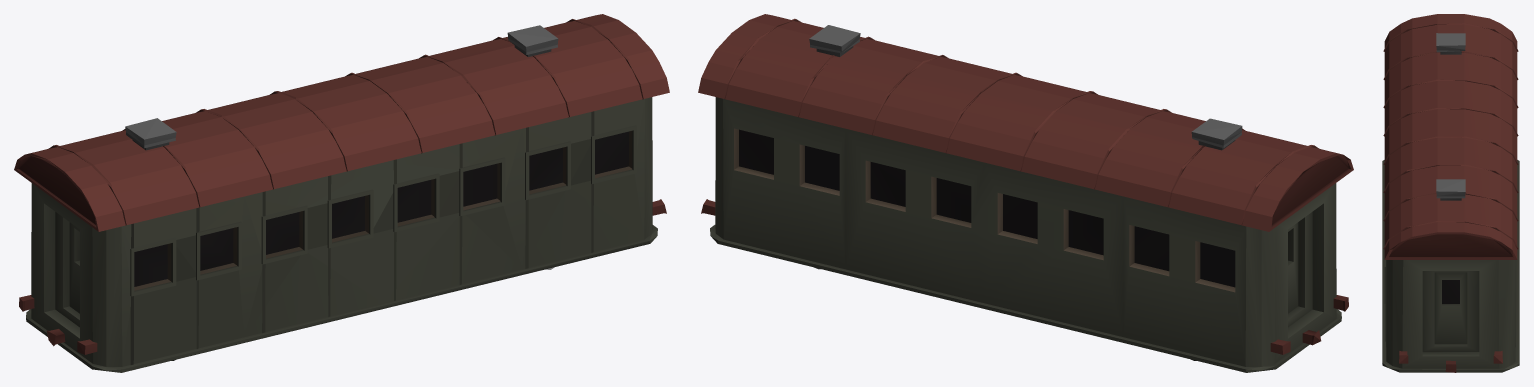
File: train-wagon.glb
3 renders of one model, left to right at view 1: azimuth 30°, elevation 25°; view 2: azimuth 150°, elevation 25°; view 3: azimuth 270°, elevation 25°, orthographic. The views are drawn at different scales.
Parts seen in each view (by area): view 1: train-wagon; view 2: train-wagon; view 3: train-wagon.
Boxes of the visible parts, x1,y1,x2,y2 form: train-wagon: [14, 14, 669, 372]; train-wagon: [698, 14, 1353, 372]; train-wagon: [1382, 14, 1519, 372].
Bounding box in the file's own units: 9.09 × 3.3 × 2.36.
